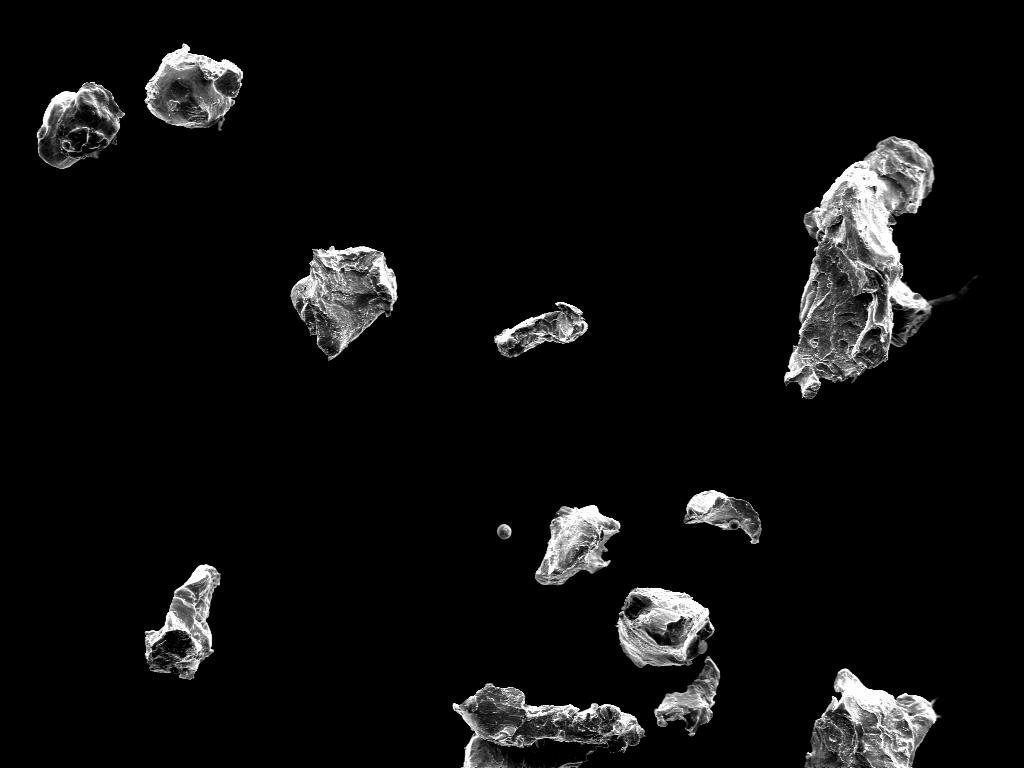Powder: (784, 136, 934, 398), (454, 684, 644, 768), (806, 670, 936, 768), (292, 246, 396, 359), (146, 564, 220, 679), (146, 44, 242, 128), (618, 588, 714, 667), (38, 82, 124, 167), (536, 506, 620, 584), (495, 302, 588, 357), (654, 658, 720, 735), (684, 490, 762, 543), (498, 524, 512, 540)
